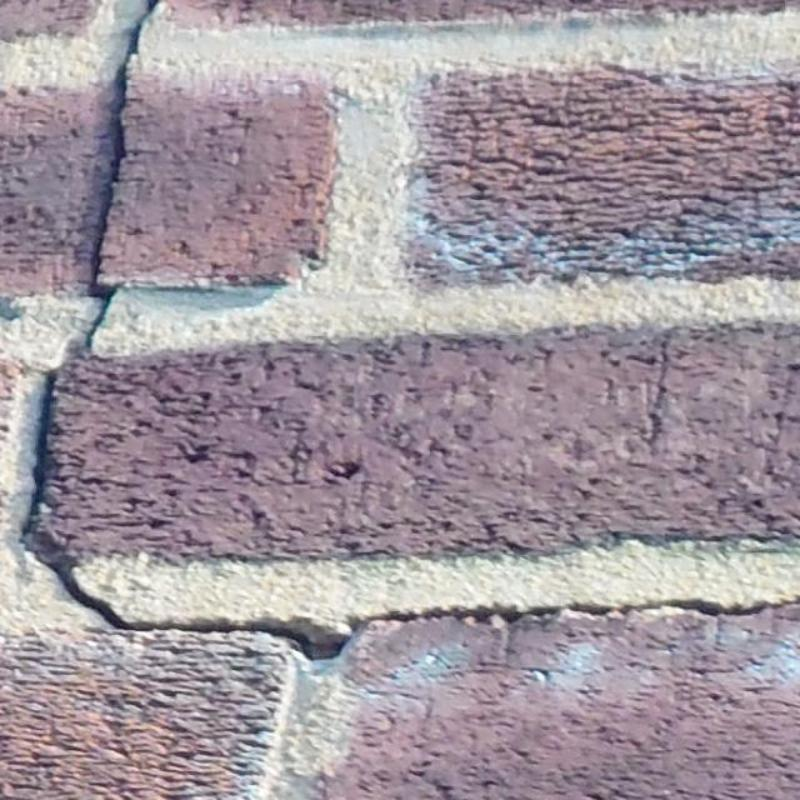pothole: (23, 363, 351, 659), (353, 600, 800, 637), (70, 188, 116, 362), (112, 0, 155, 176)
